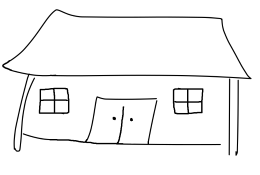big_house: (0, 0, 257, 174)
closed_window: (168, 83, 208, 126), (35, 84, 75, 118)
door: (84, 90, 163, 155)
roof: (3, 1, 256, 85)
wall: (7, 68, 246, 163)
